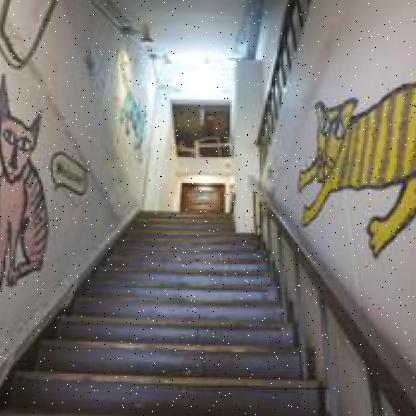stair_up: (24, 274, 336, 410)
